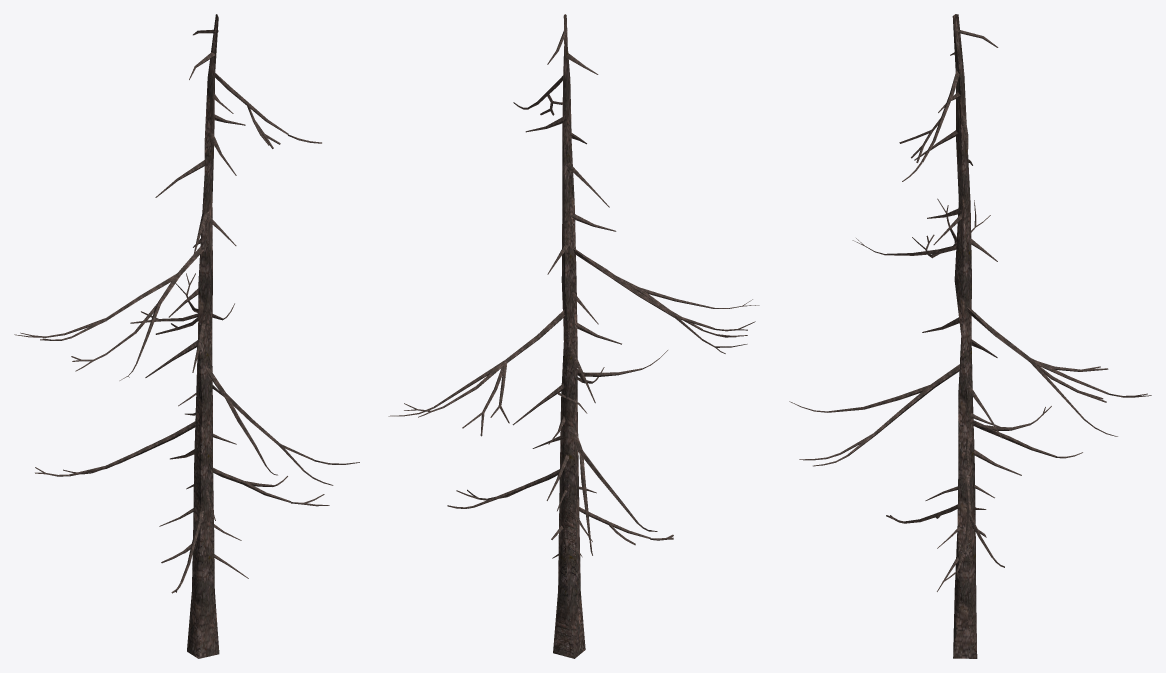
Rendered from tree_dead.obj.
The picture shows the model from 3 angles, left to right: view 1: azimuth 30°, elevation 25°; view 2: azimuth 150°, elevation 25°; view 3: azimuth 270°, elevation 25°; orthographic projection.
Visible parts, largest first — view 1: Tree_Bark; view 2: Tree_Bark; view 3: Tree_Bark.
Boxes of the visible parts, x1=… form: Tree_Bark: x1=14, y1=14, x2=359, y2=658; Tree_Bark: x1=388, y1=14, x2=759, y2=658; Tree_Bark: x1=789, y1=14, x2=1151, y2=658.
Size of the model in its own units: 7.93 by 16.02 by 8.16.
1 material, 1 textured.
